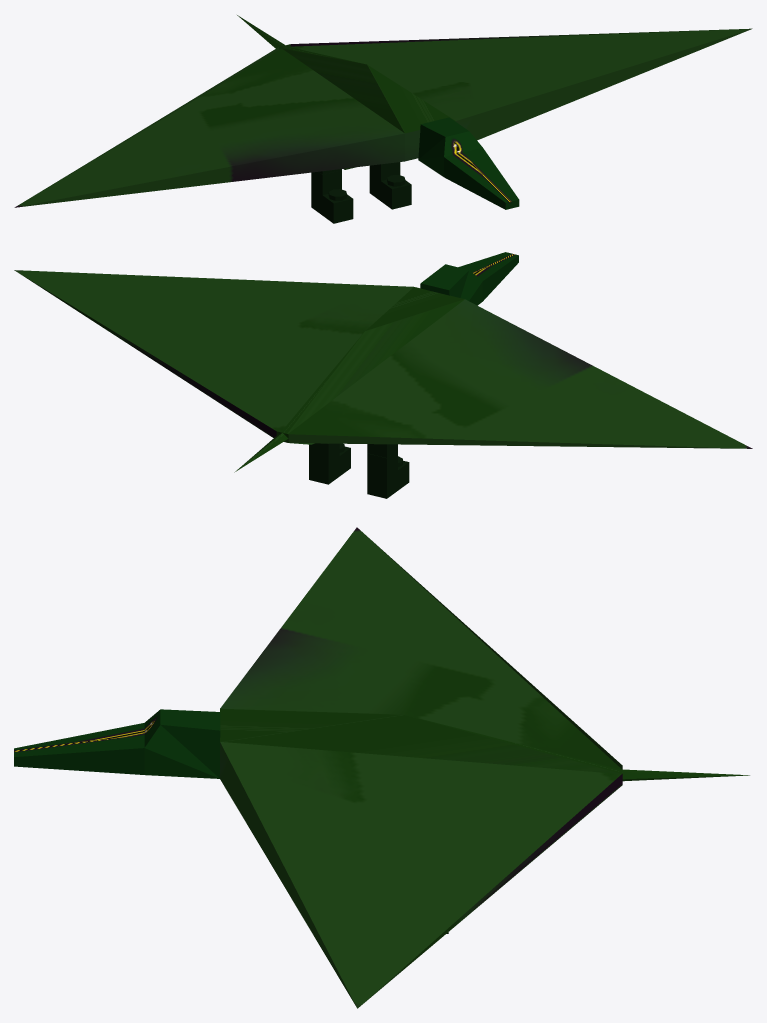
File: terodactilo.obj
3 renders of one model, top to bottom at view 1: azimuth 30°, elevation 25°; view 2: azimuth 150°, elevation 25°; view 3: azimuth 270°, elevation 25°, orthographic. The views are drawn at different scales.
Visible parts, largest first — view 1: Cube_Cube.004; view 2: Cube_Cube.004; view 3: Cube_Cube.004.
Part boxes in pixels (x1,y1,x2,y2): Cube_Cube.004: (14,15,752,223); Cube_Cube.004: (14,252,752,498); Cube_Cube.004: (14,527,749,1008).
Size of the model in its own units: 38.01 by 7.16 by 24.74.
